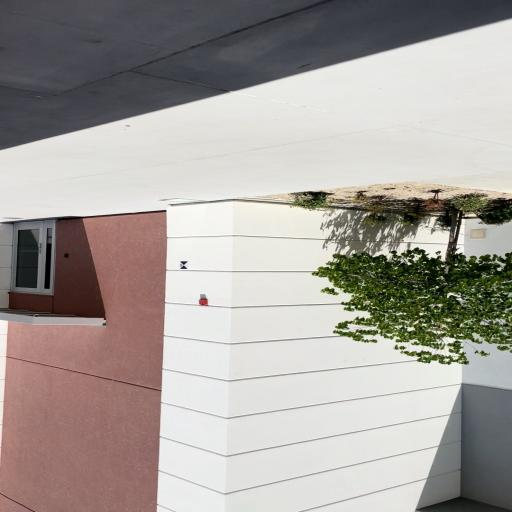target6: (179, 261, 188, 269)
